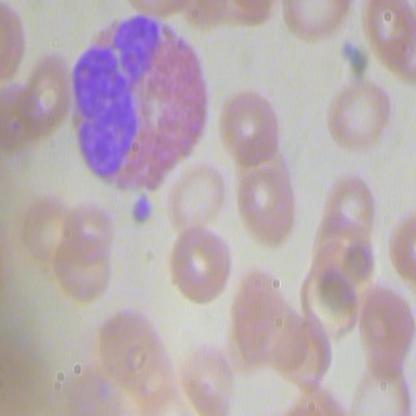Platelets: (125, 191, 155, 224)
RBC: (231, 144, 302, 250), (354, 281, 415, 384), (324, 68, 392, 160), (168, 221, 238, 309), (221, 87, 283, 168), (51, 230, 115, 307), (169, 154, 231, 232), (325, 169, 383, 237)
WBC: (49, 10, 221, 196)
